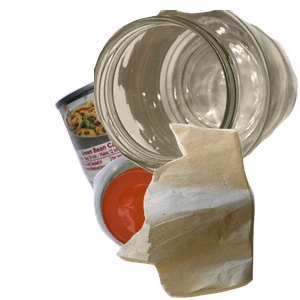glass: (94, 10, 300, 184)
metal: (52, 57, 260, 237)
plastic: (91, 152, 281, 300)
trash: (114, 121, 300, 300)
